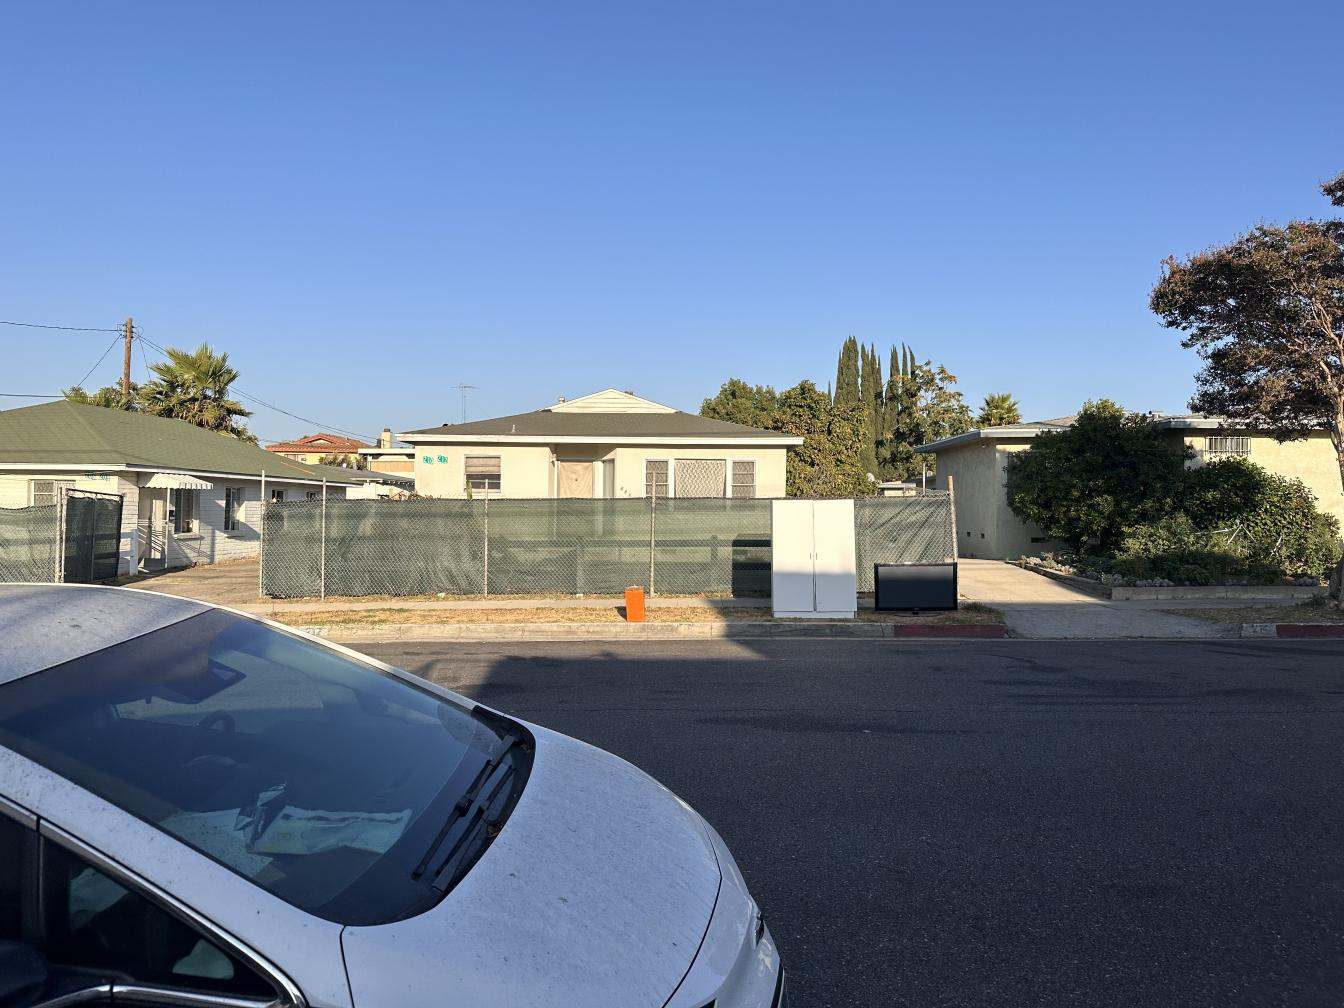curbs-laRr: (331, 619, 894, 643)
orange box: (625, 587, 650, 623)
